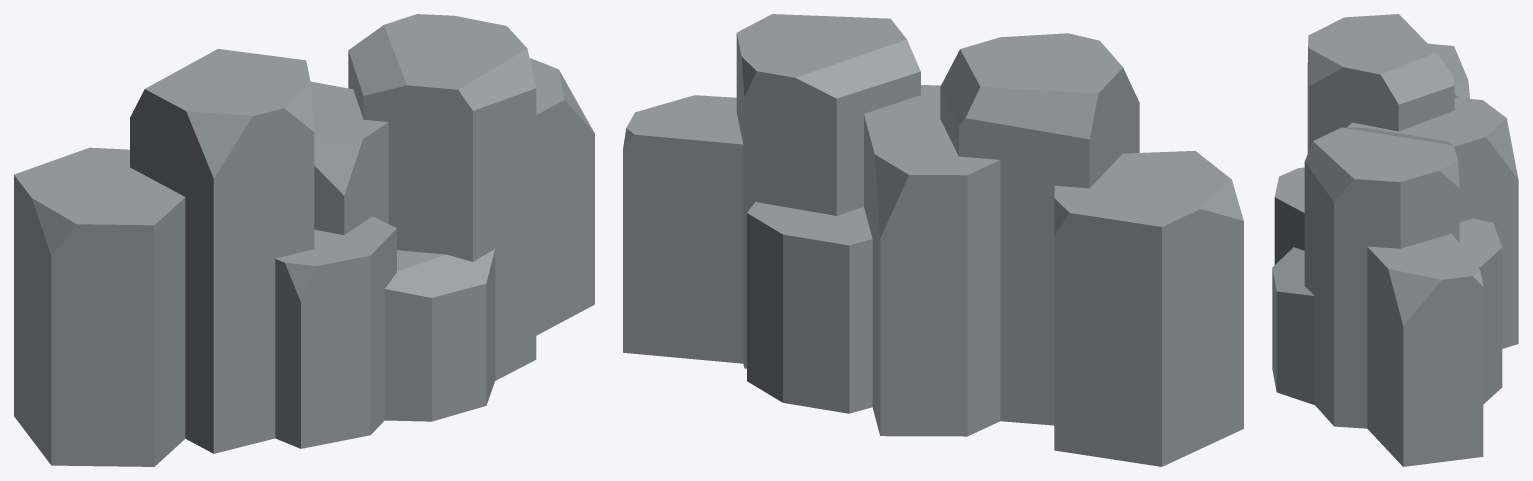
File: NHP_Rock_Wall_B1_03.fbx
The picture shows the model from 3 angles, left to right: view 1: azimuth 30°, elevation 25°; view 2: azimuth 150°, elevation 25°; view 3: azimuth 270°, elevation 25°; orthographic projection. The views are drawn at different scales.
Parts seen in each view (by area): view 1: NHP_Rock_Wall_B1_03; view 2: NHP_Rock_Wall_B1_03; view 3: NHP_Rock_Wall_B1_03.
Part boxes in pixels (x1,y1,x2,y2): NHP_Rock_Wall_B1_03: [14, 14, 594, 466]; NHP_Rock_Wall_B1_03: [623, 14, 1243, 466]; NHP_Rock_Wall_B1_03: [1272, 14, 1518, 466].
Size of the model in its own units: 3.65 by 1.99 by 1.64.
